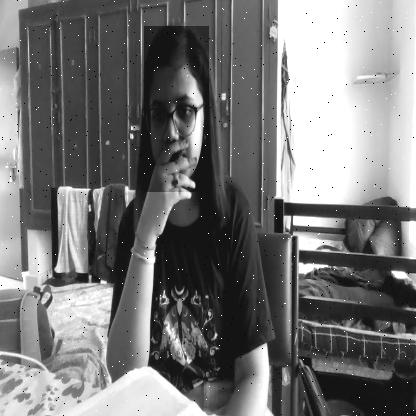Normal: (144, 26, 209, 192)
